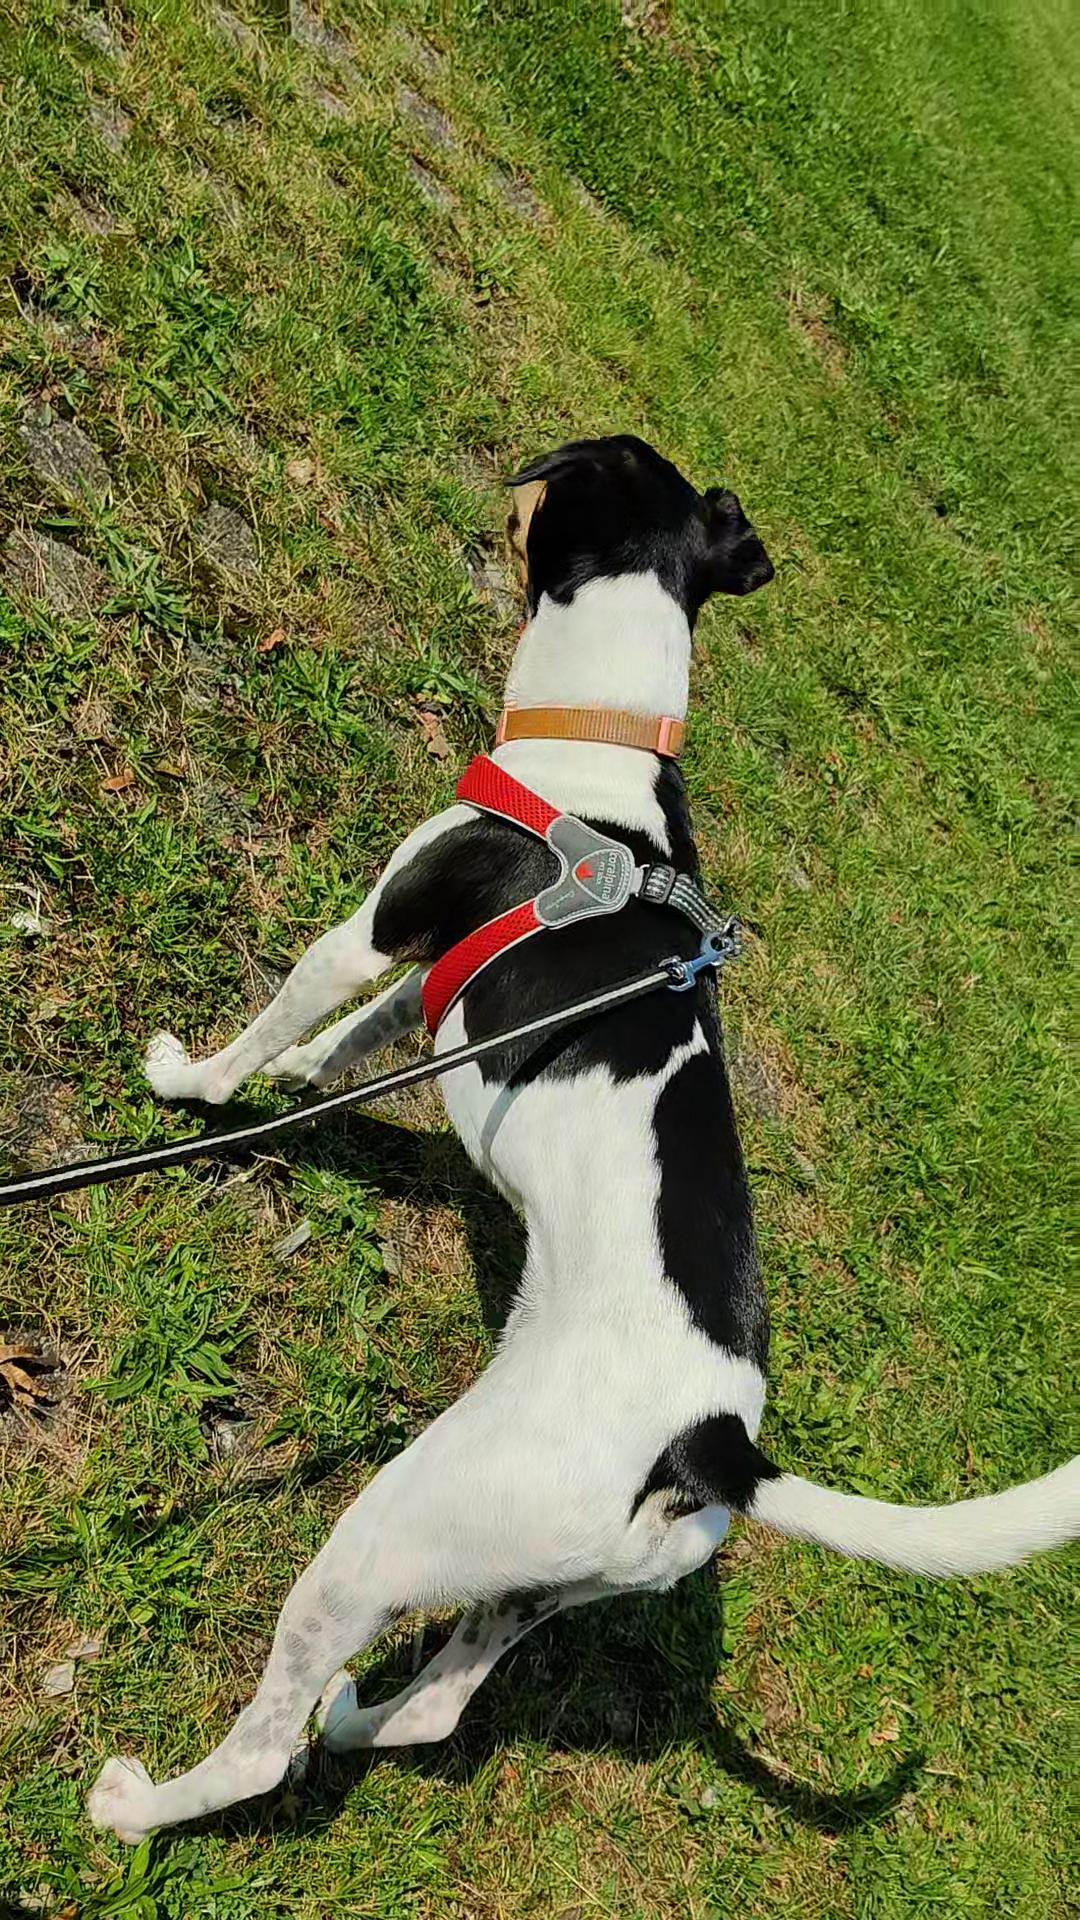Dog: (67, 398, 1079, 1844)
